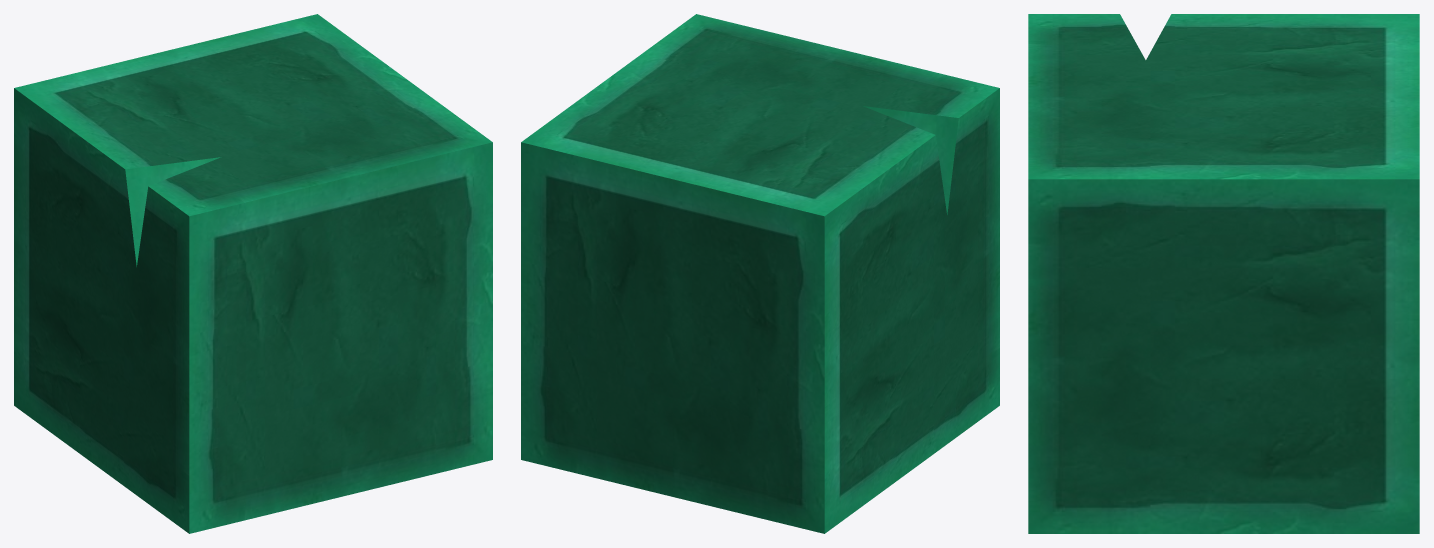
Rendered from block1dp_wtf.obj.
3 views of the same model, side by side, from view 1: azimuth 30°, elevation 25°; view 2: azimuth 150°, elevation 25°; view 3: azimuth 270°, elevation 25° (orthographic). The views are drawn at different scales.
Visible parts, largest first — view 1: group2; view 2: group2; view 3: group2.
Part boxes in pixels (left/top/right/bottom): group2: left=14, top=14, right=492, bottom=533; group2: left=521, top=14, right=999, bottom=533; group2: left=1028, top=14, right=1419, bottom=533.
Size of the model in its own units: 660 by 660 by 660.
